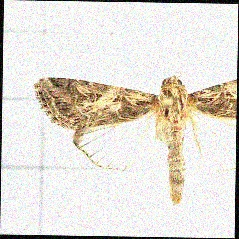Spodoptera litura: (30, 69, 236, 205)
